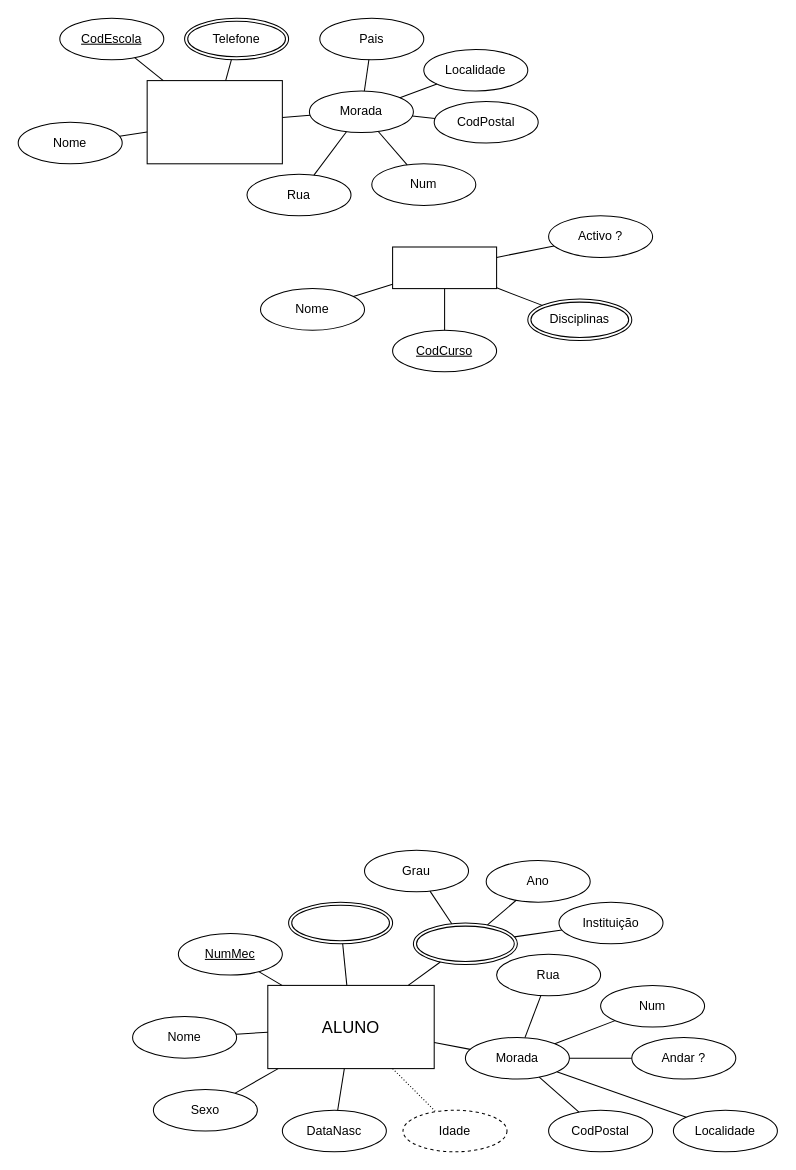
The diagram is 796 pixels wide and 1170 high, and some of its shapes have lost their labels. Here are the shapes that lost their labels. From the top down, the centre of each, then its label:
At point 214,122: "ESCOLA".
At point 444,267: "CURSO".
At point 340,922: "NumTelef".
At point 464,943: "Habilitação".
